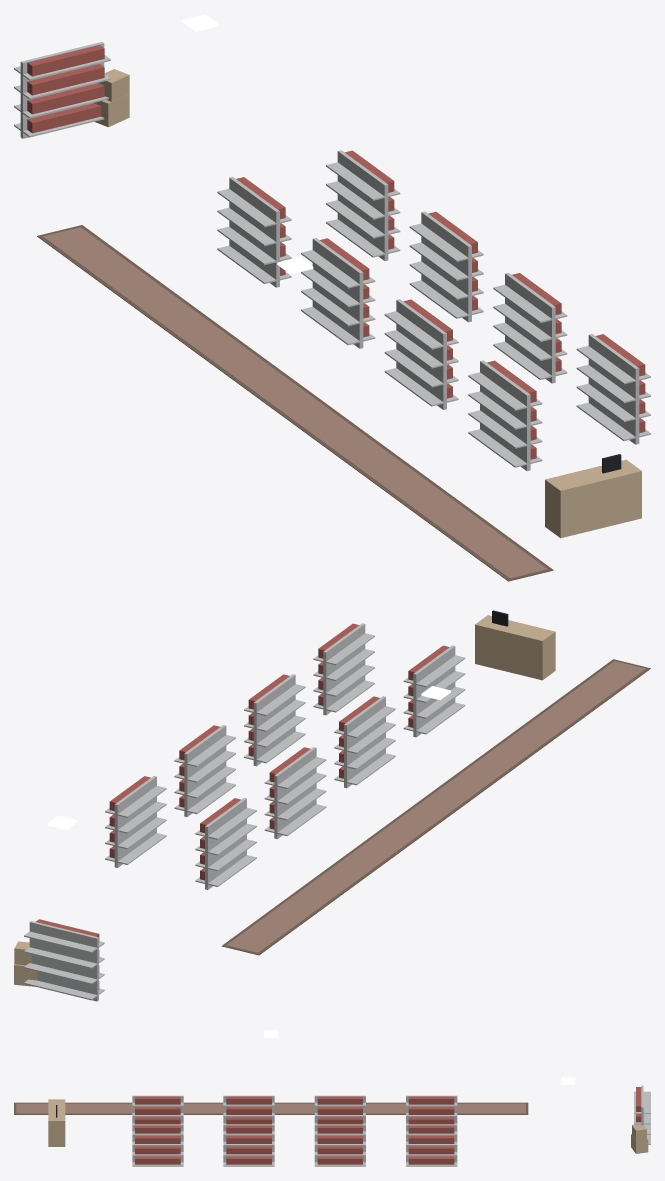
File: fine-s0.glb
3 renders of one model, top to bottom at view 1: azimuth 30°, elevation 25°; view 2: azimuth 150°, elevation 25°; view 3: azimuth 270°, elevation 25°, orthographic. The views are drawn at different scales.
Parts seen in each view (by area): view 1: soft-s0, shelving.000, shop-counter.000, shelf.004, shelf.001, shelf.007, shelf.002, shelf.005, shelf.006, shelf.003, shelf.000, cardboard-box.000; view 2: soft-s0, shelving.000, shop-counter.000, shelf.001, shelf.006, shelf.004, shelf.007, shelf.005, shelf.000, shelf.002, shelf.003, cardboard-box.000; view 3: soft-s0, shelf.004, shelf.005, shelf.006, shelf.007, shelf.002, shelf.003, shelf.000, shelf.001, shop-counter.000, shelving.000, cardboard-box.000.
Part boxes in pixels (left/top/right/bottom): soft-s0: left=37, top=225, right=553, bottom=581; shelving.000: left=14, top=42, right=110, bottom=138; shop-counter.000: left=545, top=454, right=641, bottom=538; shelf.004: left=326, top=150, right=400, bottom=260; shelf.001: left=301, top=238, right=375, bottom=348; shelf.007: left=576, top=334, right=650, bottom=444; shelf.002: left=384, top=299, right=458, bottom=409; shelf.005: left=409, top=211, right=483, bottom=322; shelf.006: left=493, top=272, right=567, bottom=383; shelf.003: left=468, top=360, right=542, bottom=471; shelf.000: left=217, top=176, right=291, bottom=287; cardboard-box.000: left=94, top=69, right=129, bottom=127; soft-s0: left=222, top=659, right=650, bottom=955; shelving.000: left=24, top=919, right=104, bottom=1001; shop-counter.000: left=475, top=610, right=555, bottom=680; shelf.001: left=264, top=747, right=326, bottom=839; shelf.006: left=244, top=674, right=305, bottom=766; shelf.004: left=105, top=776, right=166, bottom=867; shelf.007: left=313, top=623, right=374, bottom=715; shelf.005: left=174, top=725, right=235, bottom=816; shelf.000: left=195, top=798, right=256, bottom=889; shelf.002: left=334, top=696, right=395, bottom=788; shelf.003: left=403, top=645, right=465, bottom=737; cardboard-box.000: left=14, top=941, right=37, bottom=986; soft-s0: left=14, top=1102, right=528, bottom=1114; shelf.004: left=406, top=1124, right=457, bottom=1166; shelf.005: left=314, top=1124, right=365, bottom=1166; shelf.006: left=223, top=1124, right=274, bottom=1166; shelf.007: left=132, top=1124, right=183, bottom=1166; shelf.002: left=223, top=1095, right=274, bottom=1124; shelf.003: left=132, top=1095, right=183, bottom=1124; shelf.000: left=406, top=1095, right=457, bottom=1124; shelf.001: left=314, top=1095, right=365, bottom=1124; shop-counter.000: left=48, top=1099, right=65, bottom=1146; shelving.000: left=634, top=1085, right=650, bottom=1144; cardboard-box.000: left=631, top=1124, right=648, bottom=1153.
Size of the model in its own units: 5.54 by 2.94 by 22.35.
